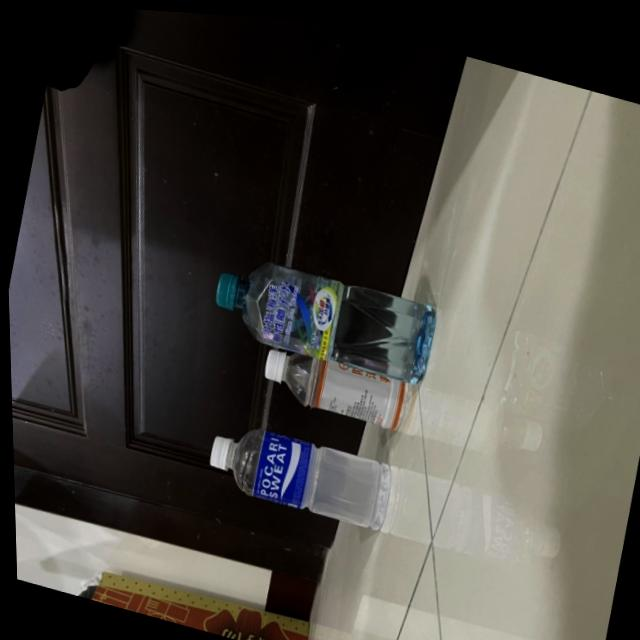anorganik: (195, 393, 399, 539)
